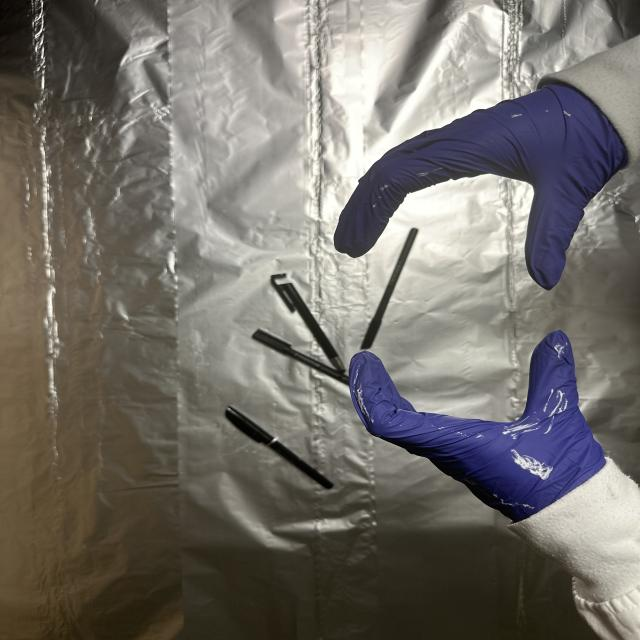gloves_contaminated: (334, 84, 628, 290), (338, 330, 604, 522)
